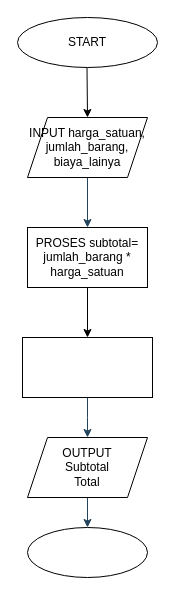
Some shapes in this 175 by 595 pixel diagram are drawn without their labels. The box of each missing label's shape, as (x1, y1, x2, y2) in pixels:
END: (26, 526, 148, 578)
PROSES total= subtotal + biaya_lainya: (22, 336, 152, 398)
